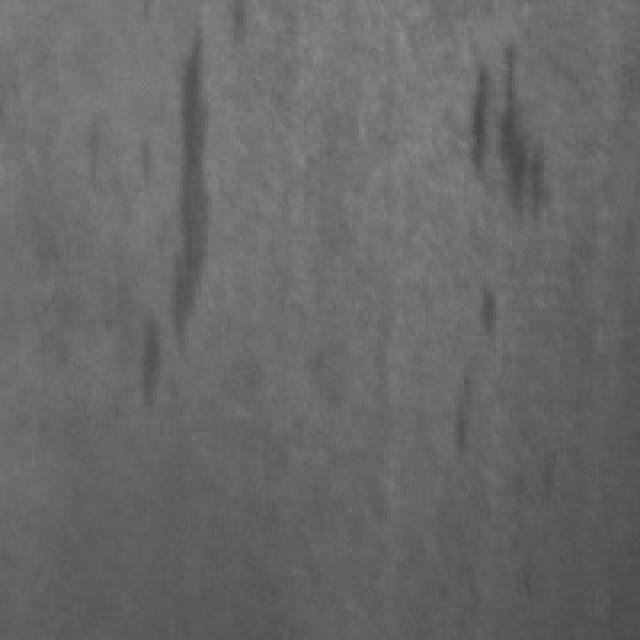inclusion: (115, 10, 211, 416), (442, 26, 556, 227), (432, 266, 509, 467)
